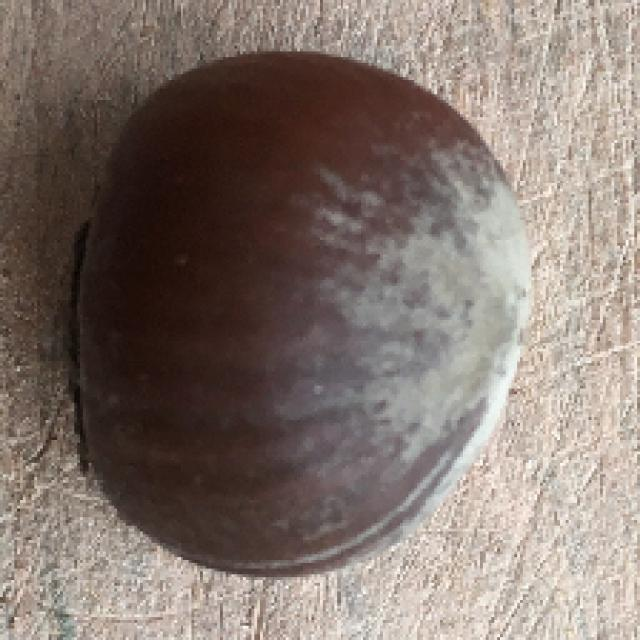damagedHazelnut: (59, 34, 562, 582)
